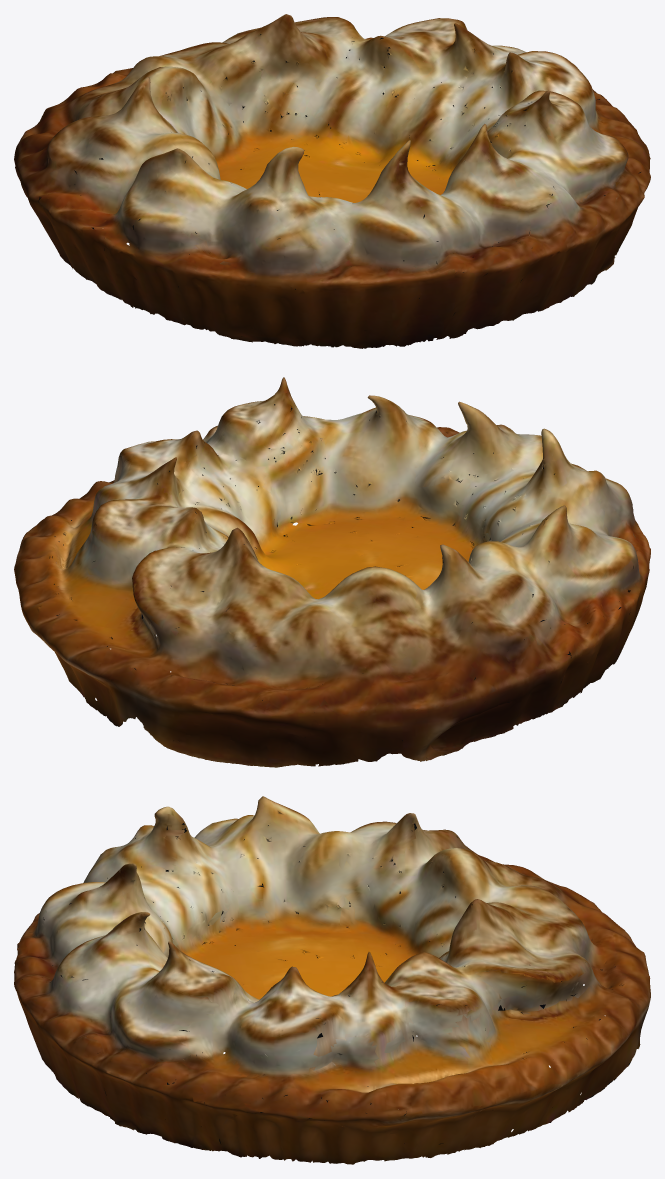
File: cardamomo-4002.glb
3 renders of one model, top to bottom at view 1: azimuth 30°, elevation 25°; view 2: azimuth 150°, elevation 25°; view 3: azimuth 270°, elevation 25°, orthographic.
Visible parts, largest first — view 1: lo; view 2: lo; view 3: lo.
Part boxes in pixels (bbox=[...]): lo: bbox=[14, 14, 650, 348]; lo: bbox=[14, 377, 650, 767]; lo: bbox=[14, 796, 650, 1164].
Bounding box in the file's own units: 0.18 × 0.0588 × 0.1825.
1 material, 1 textured.
